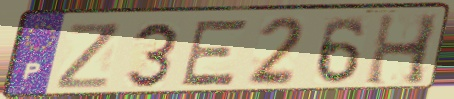2: (245, 14, 307, 89)
3: (121, 19, 180, 90)
6: (316, 15, 368, 86)
E: (177, 17, 253, 89)
H: (362, 11, 443, 88)
Z: (54, 20, 123, 91)
